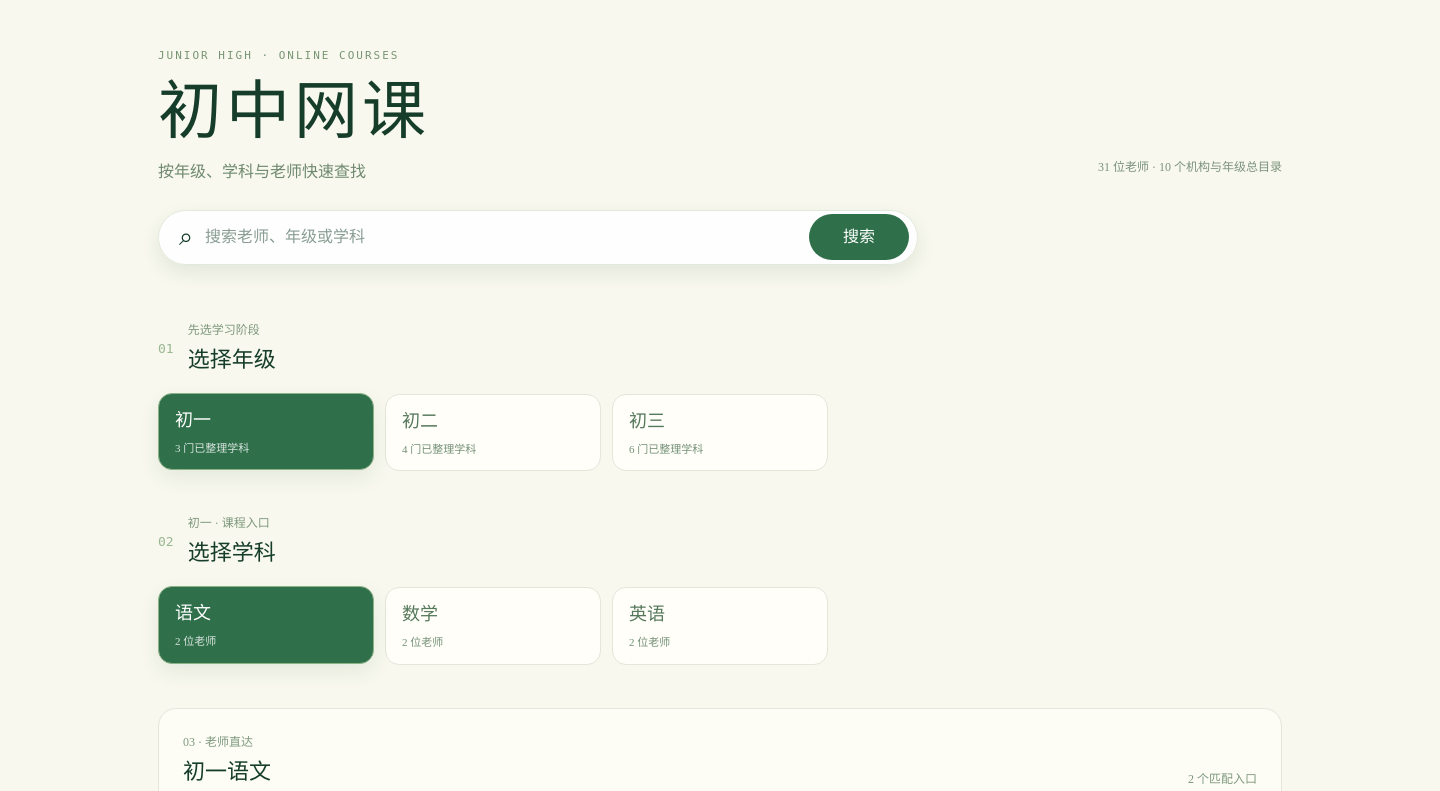
Test: junior-high course index › switches grade and subject while keeping teacher cards direct
Click the tab "初三 6 门已整理学科": (720, 432) [612,394,828,471]
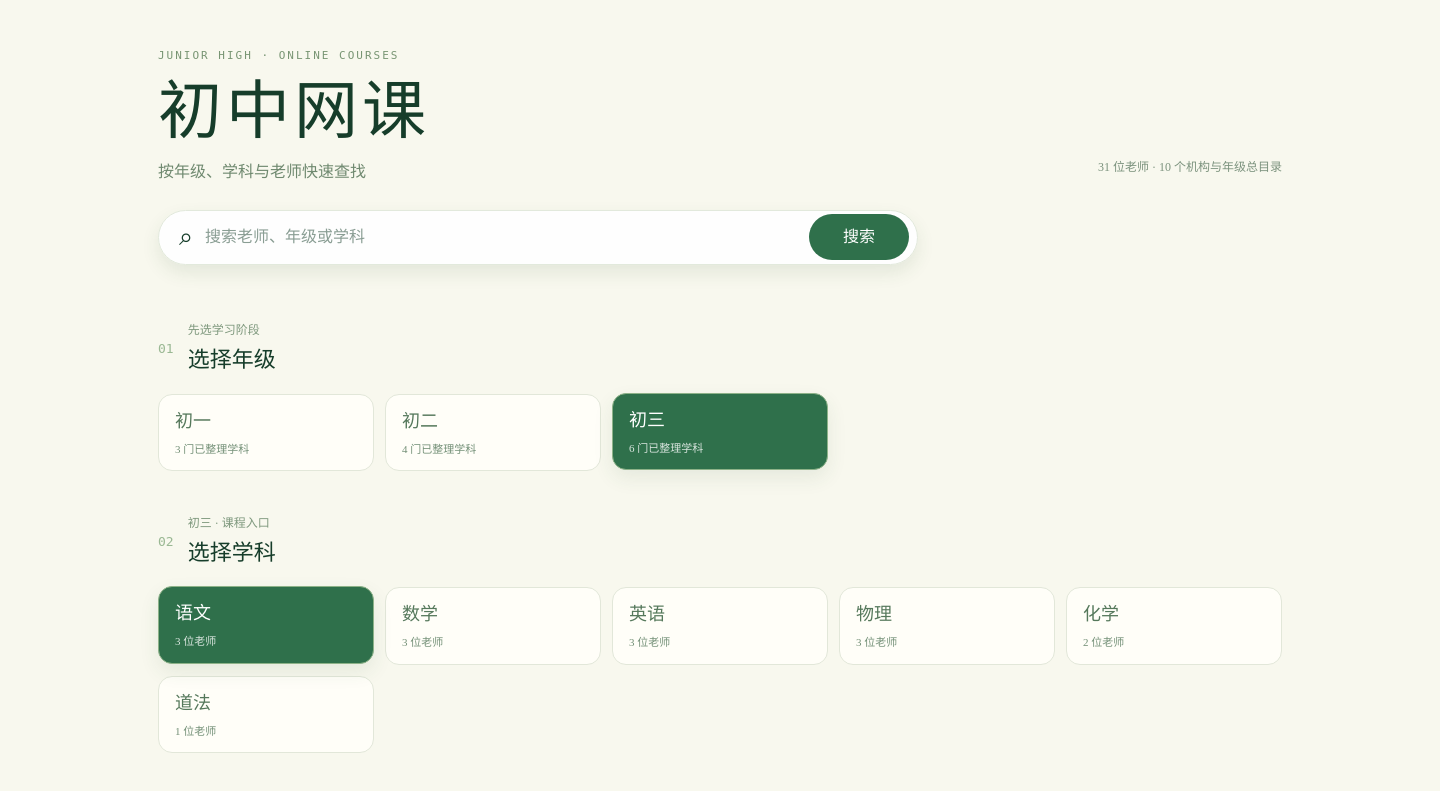
Click the tab "物理 3 位老师": (947, 626) [839,587,1055,664]
(page scrolled)
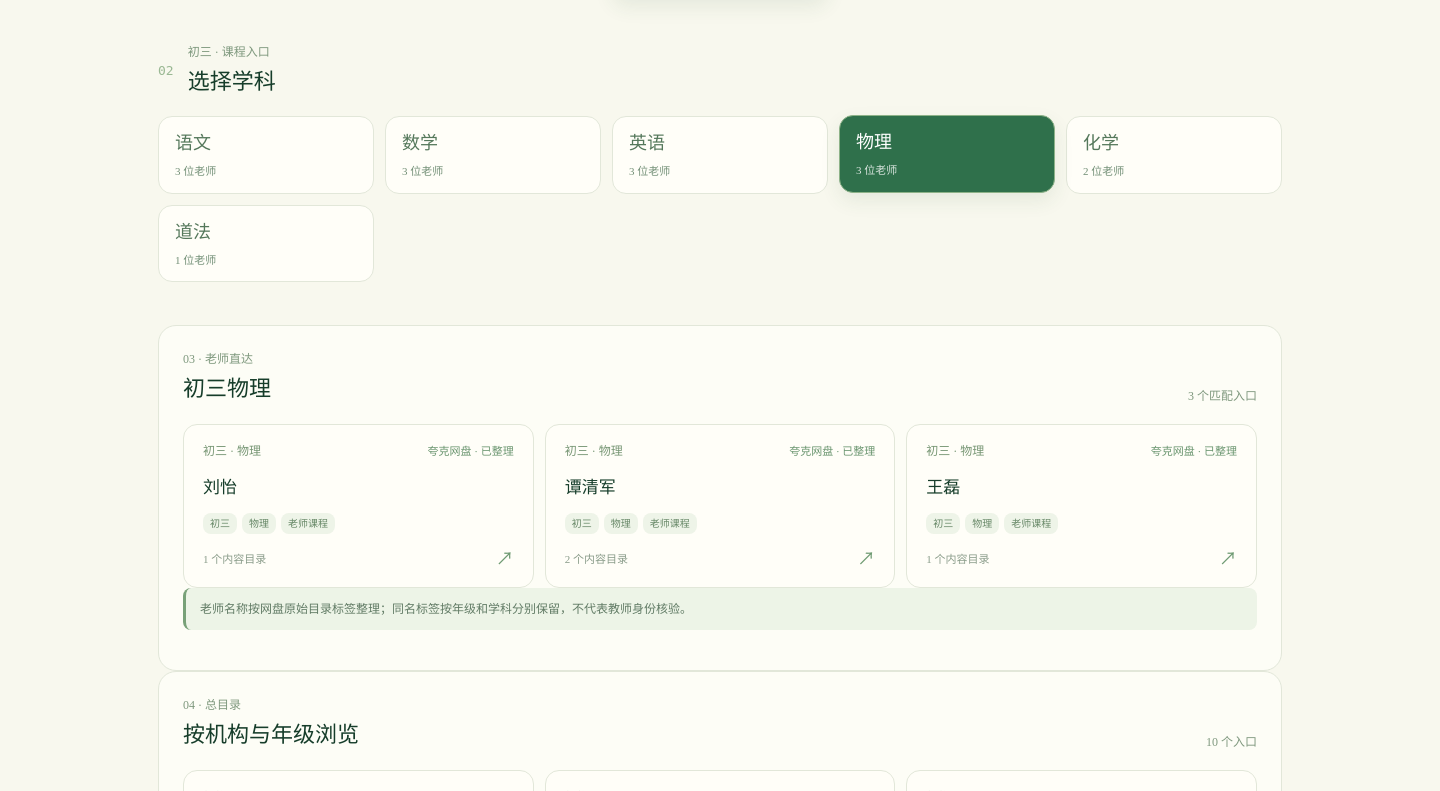
Now the text "3 个匹配入口" is shown, box [1188,387,1257,405]
Now the link "初三 · 物理 夸克网盘 · 已整理 谭清军 初三 物理 老师课程 2 个内容目录 ↗" is shown, box [545,424,895,588]
